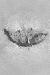V30: (5, 1, 45, 75)
